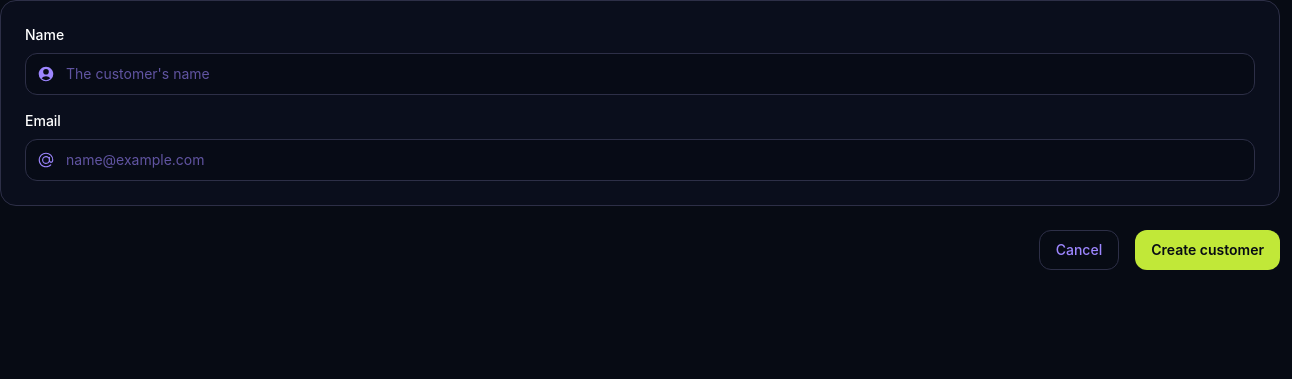
the customer form › says what is missing or wrong, beside each field, and writes nothing
Type "zorg@nowhere" into the field labelled "Email" at (640, 160), box left=25, top=139, right=1255, bottom=181
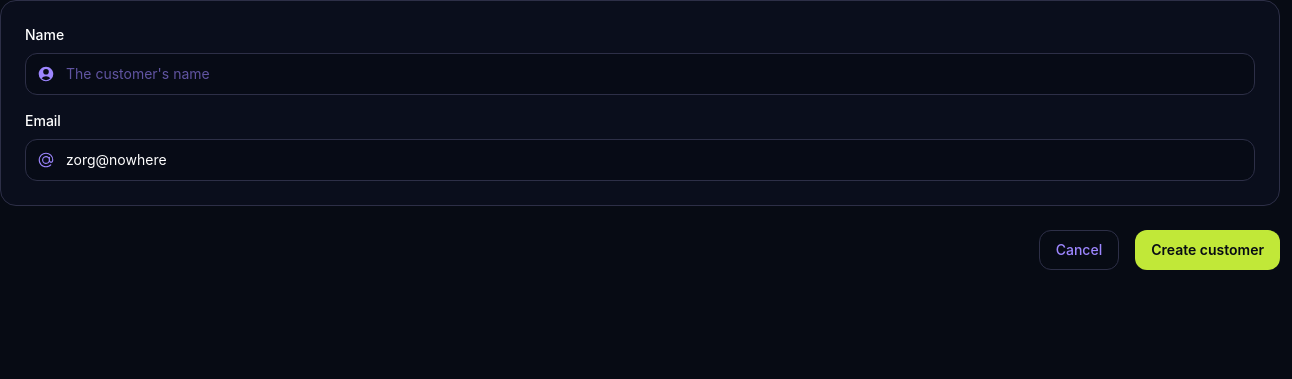
Click the button "Create customer" at (1208, 250), box left=1135, top=230, right=1280, bottom=270
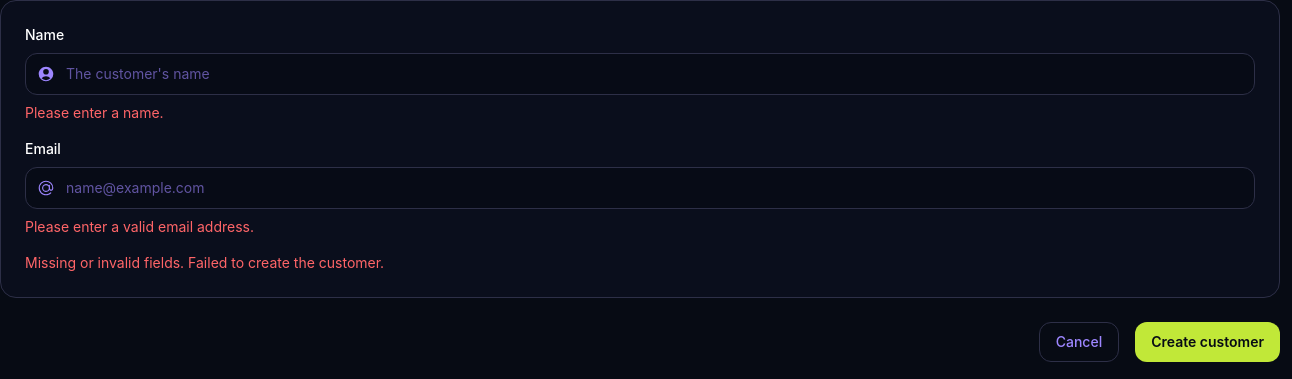
Check: the text "Please enter a name." is shown, box left=25, top=104, right=164, bottom=121
Check: the text "Please enter a valid email address." is shown, box left=25, top=218, right=254, bottom=235
